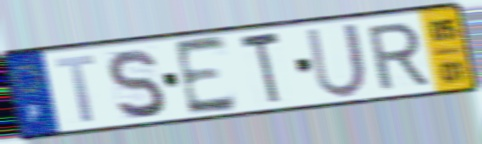E: (171, 33, 240, 119)
R: (364, 19, 432, 93)
S: (104, 46, 168, 122)
T: (237, 28, 284, 109), (52, 52, 99, 125)
U: (303, 19, 370, 101)
